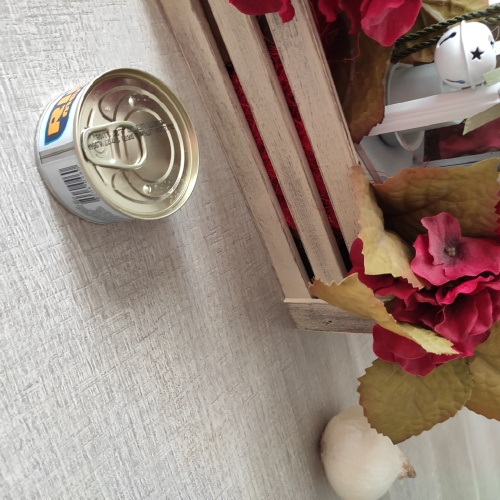tonno: (32, 59, 208, 236)
